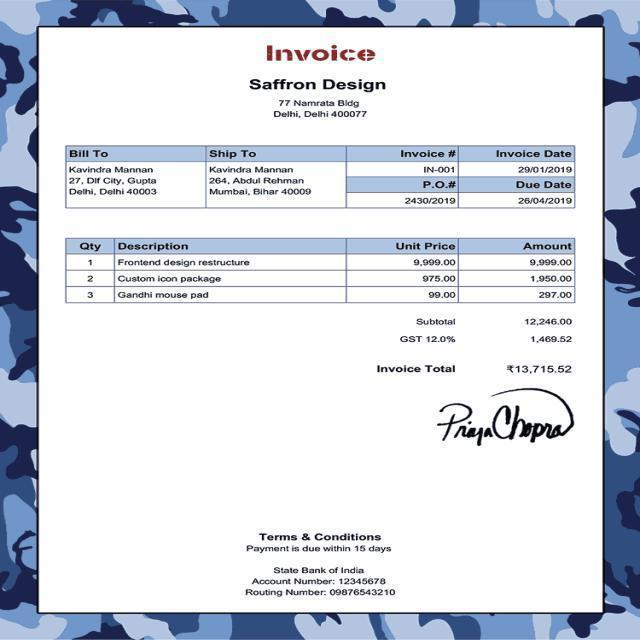paragraph: (377, 312, 577, 374), (424, 385, 578, 452), (246, 71, 392, 122), (209, 148, 312, 205), (244, 563, 398, 600), (69, 142, 159, 204), (244, 527, 395, 555), (491, 146, 574, 176), (265, 42, 378, 64), (394, 148, 460, 177), (396, 181, 460, 206), (517, 181, 574, 207)
table: (66, 239, 577, 301)
